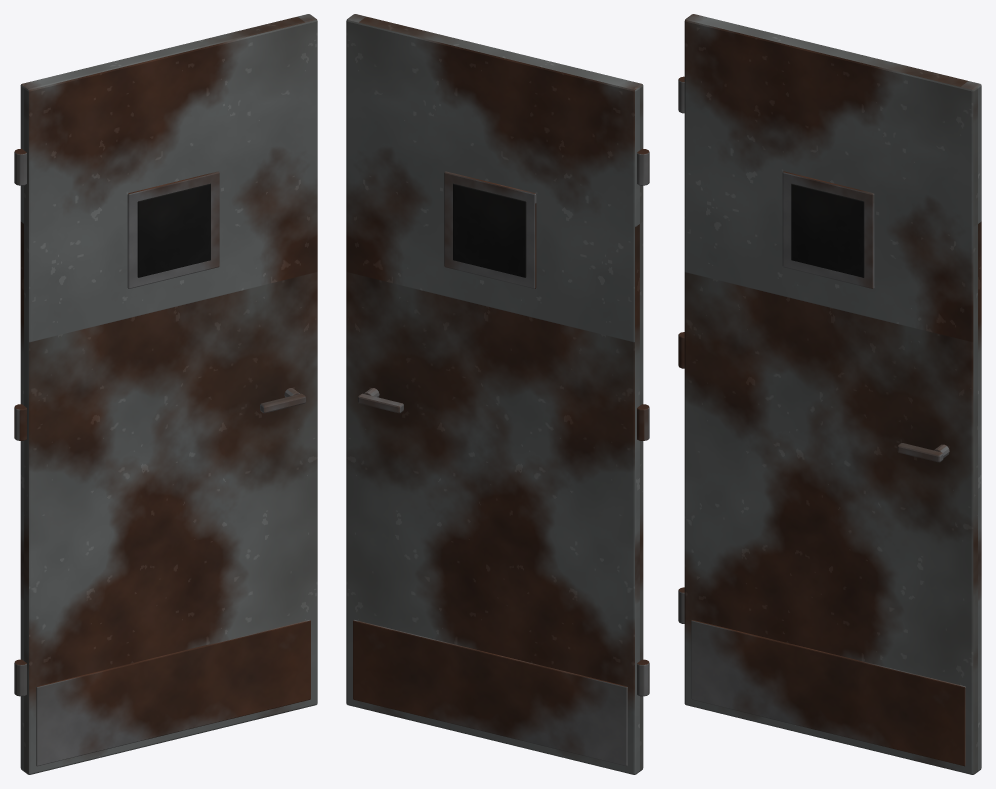
The model's file is F25_metal_door_single.glb.
3 renders of one model, left to right at view 1: azimuth 30°, elevation 25°; view 2: azimuth 150°, elevation 25°; view 3: azimuth 330°, elevation 25°, orthographic.
Parts seen in each view (by area): view 1: F25_metal_door_single; view 2: F25_metal_door_single; view 3: F25_metal_door_single.
Boxes of the visible parts, <box> form: F25_metal_door_single: <box>14,14,317,774</box>; F25_metal_door_single: <box>346,14,649,774</box>; F25_metal_door_single: <box>678,14,981,774</box>.
Size of the model in its own units: 1 by 2.2 by 0.1791.
Materials: 3 (3 with a texture image).
